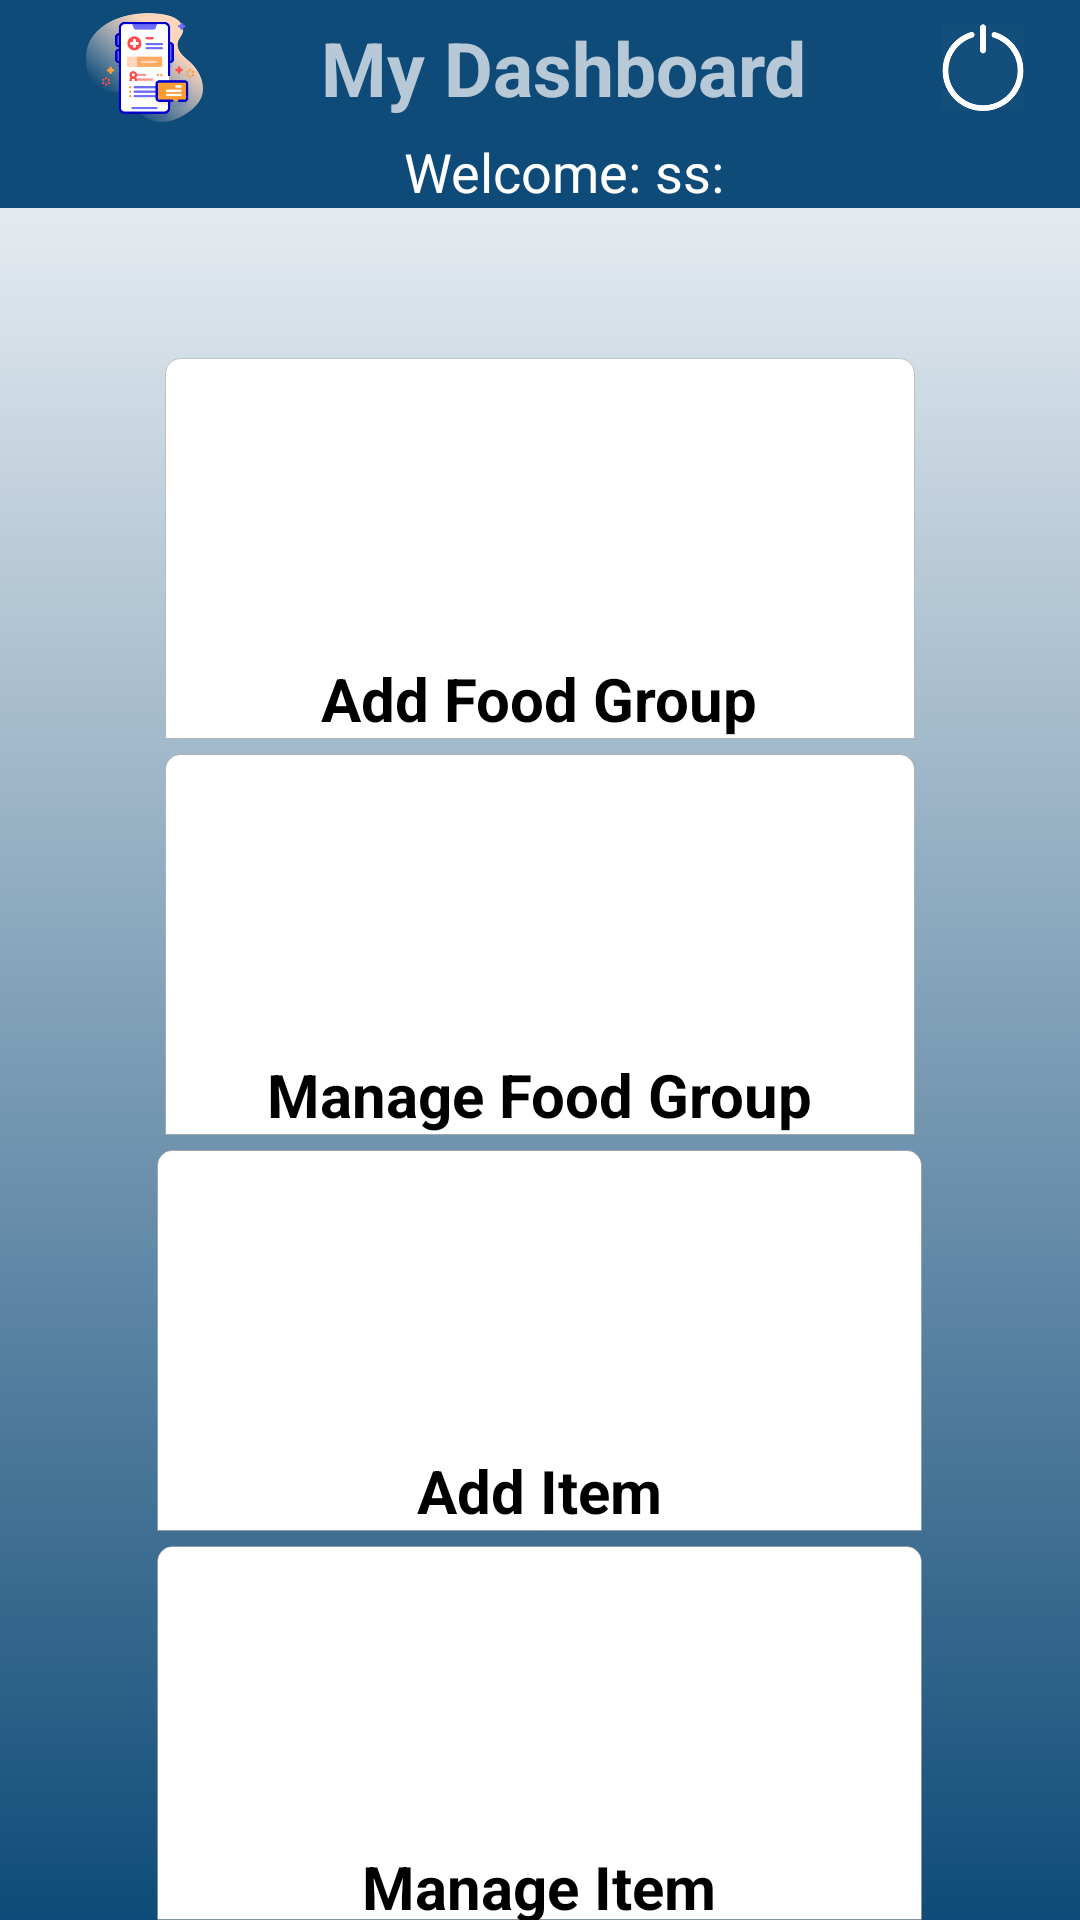

Where to tap for icons on this 1080px×1920px app screen, as (x,y):
menureport: (144,67)
